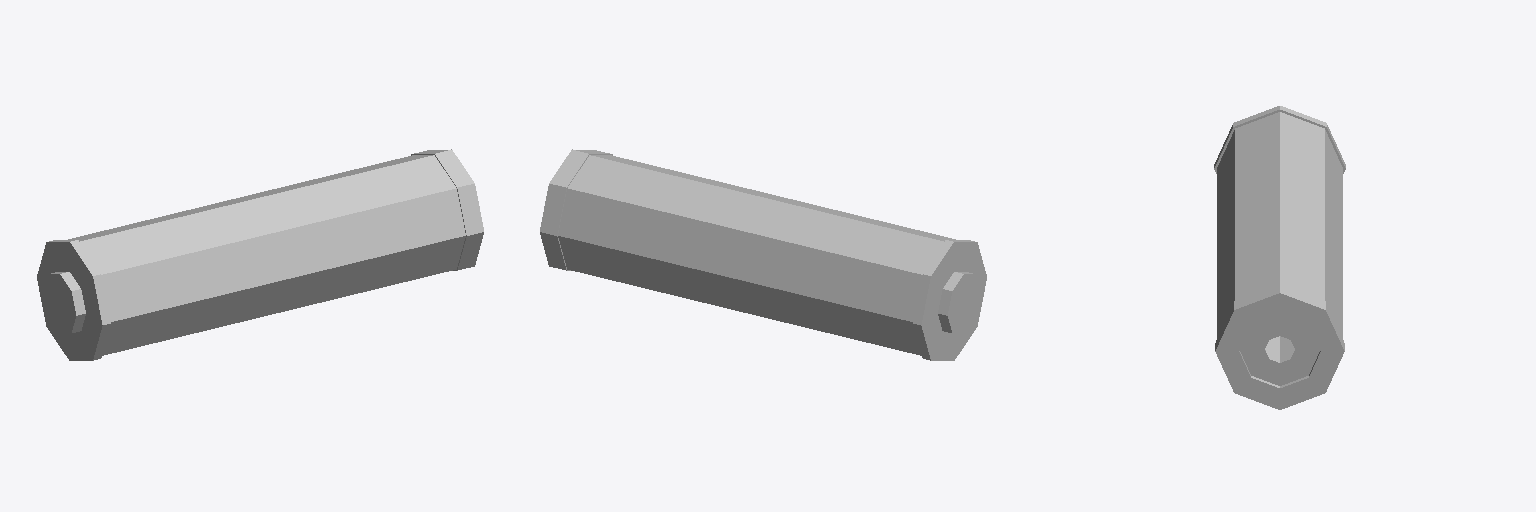
Rendered from pistol_suppressor.obj.
3 renders of one model, left to right at view 1: azimuth 30°, elevation 25°; view 2: azimuth 150°, elevation 25°; view 3: azimuth 270°, elevation 25°, orthographic.
Visible parts, largest first — view 1: attachmentModel; view 2: attachmentModel; view 3: attachmentModel.
Part boxes in pixels (left/top/right/bottom): attachmentModel: left=37, top=149, right=483, bottom=360; attachmentModel: left=540, top=149, right=986, bottom=360; attachmentModel: left=1214, top=106, right=1345, bottom=409.
Bounding box in the file's own units: 3.58 × 1.04 × 1.04.